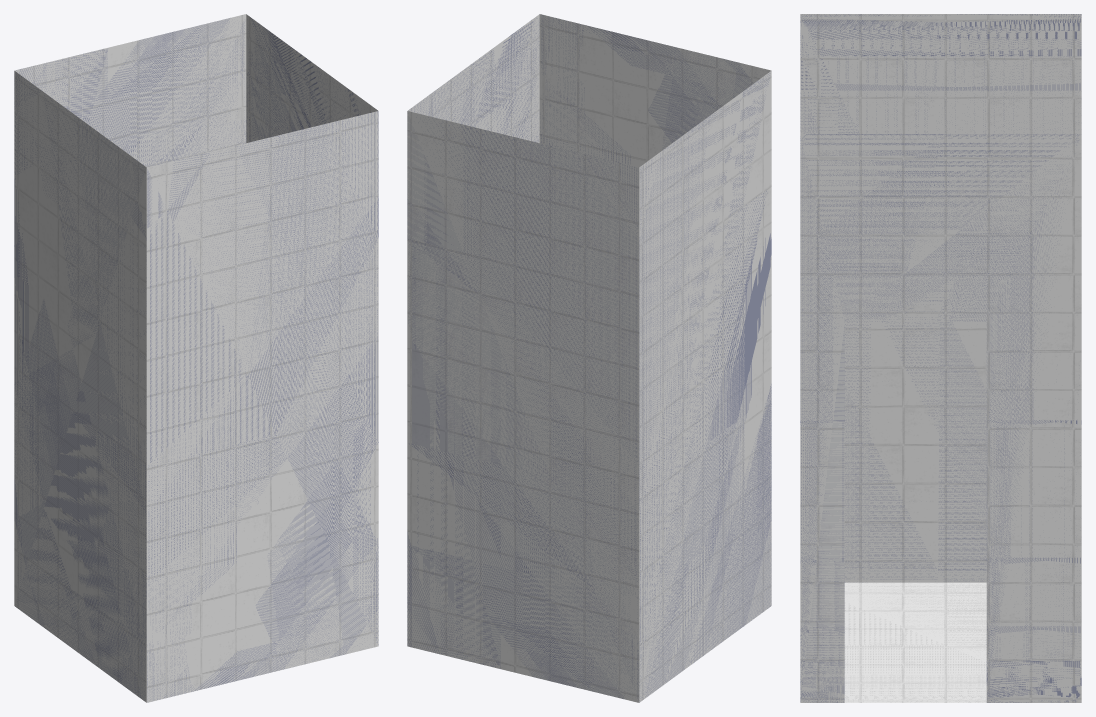
File: CUA016.obj
3 renders of one model, left to right at view 1: azimuth 30°, elevation 25°; view 2: azimuth 150°, elevation 25°; view 3: azimuth 270°, elevation 25°, orthographic. The views are drawn at different scales.
Visible parts, largest first — view 1: Mesh1 Group1 Model; view 2: Mesh1 Group1 Model; view 3: Mesh1 Group1 Model.
Boxes of the visible parts, x1,y1,x2,y2 form: Mesh1 Group1 Model: [14, 14, 378, 702]; Mesh1 Group1 Model: [407, 14, 771, 702]; Mesh1 Group1 Model: [800, 14, 1081, 702].
Size of the model in its own units: 1.36 by 2.99 by 1.34.
Materials: 3 (1 with a texture image).
